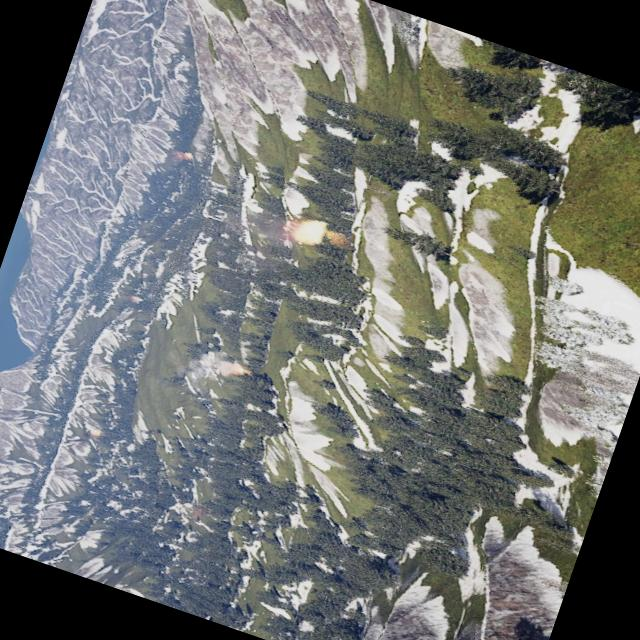fire: (291, 214, 329, 248), (236, 365, 252, 377), (178, 149, 193, 161), (90, 426, 104, 437), (131, 293, 144, 303)
smoke: (228, 206, 292, 270), (180, 341, 238, 388), (168, 146, 185, 162)
